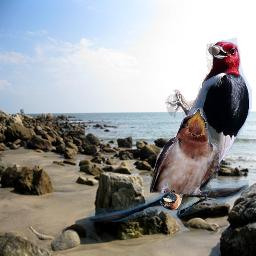Swallow: (87, 180, 249, 222), (150, 108, 220, 201)
Woodpecker: (161, 31, 252, 208)
